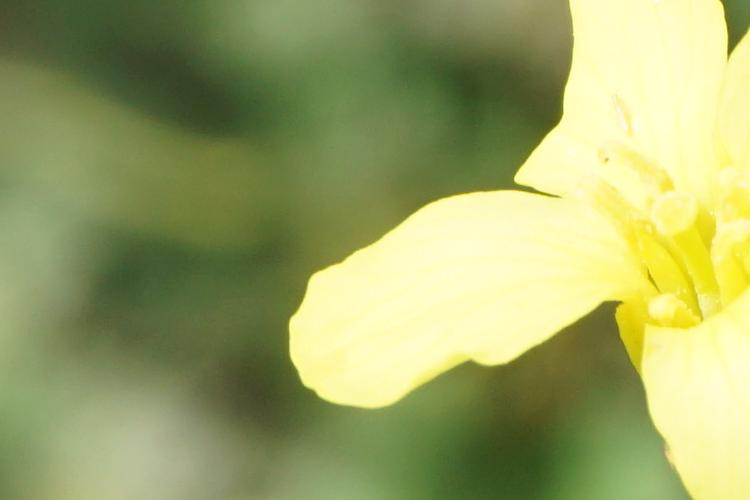yellow: (280, 7, 750, 497)
